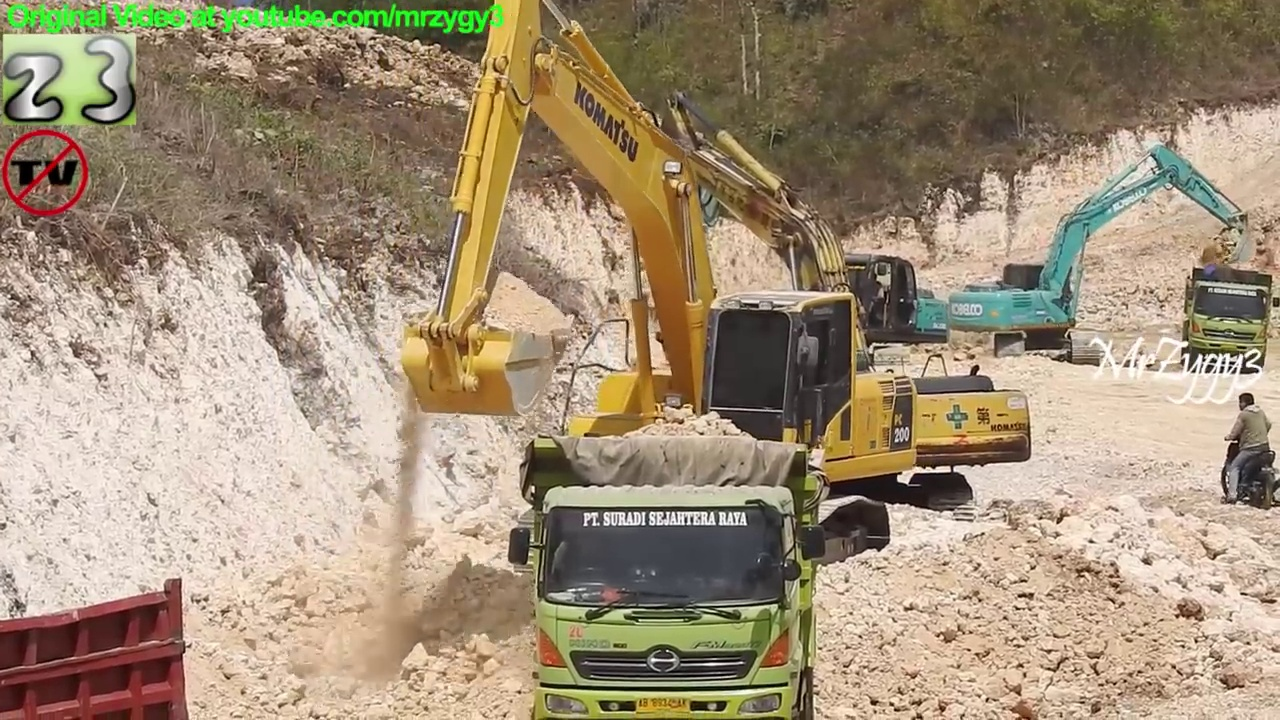excavator: (392, 1, 926, 592), (606, 83, 1040, 537), (613, 143, 955, 379), (946, 138, 1261, 369)
truck: (502, 427, 834, 720), (1, 571, 193, 720), (1179, 261, 1280, 377)
